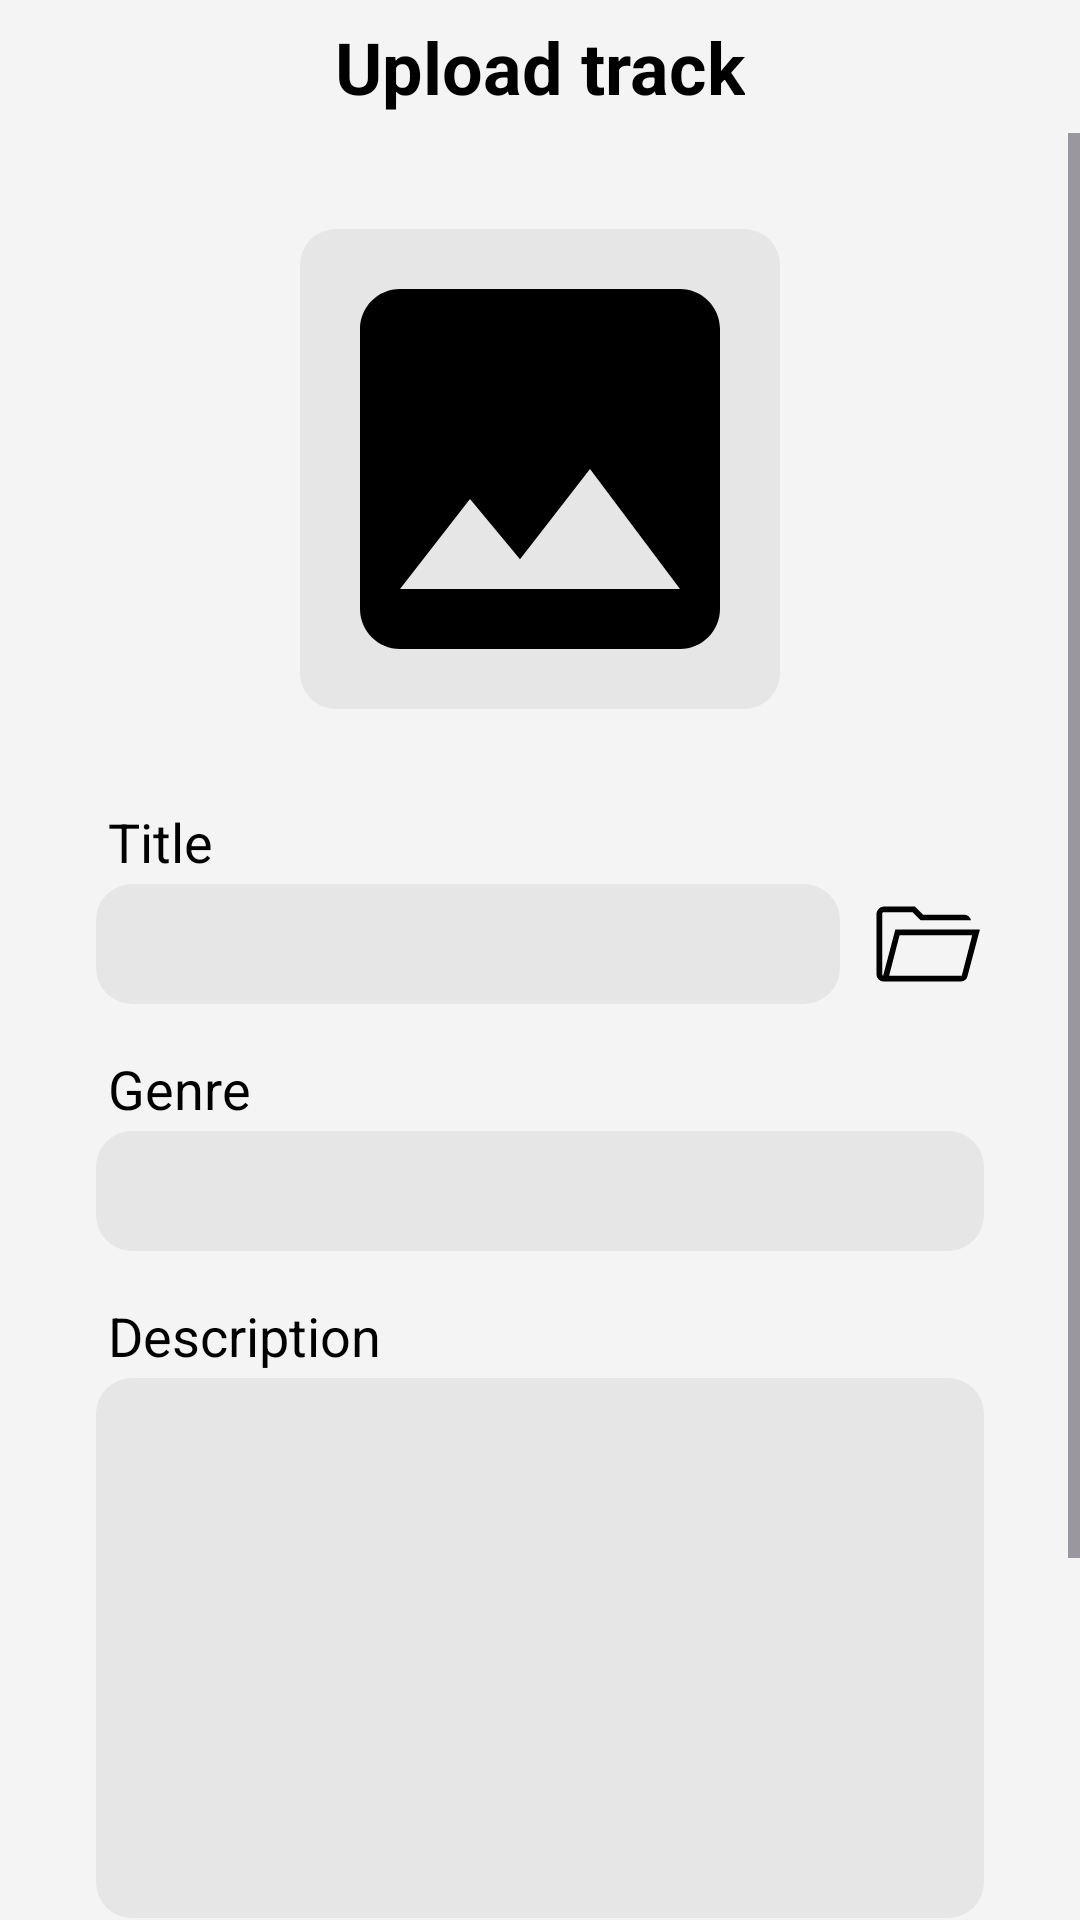

Locate icon controls on the screen. Image size 1080 x 1920, boxes as (x1, y1, x2, y2).
folder open: (876, 906, 980, 982)
photo: (360, 289, 720, 649)
